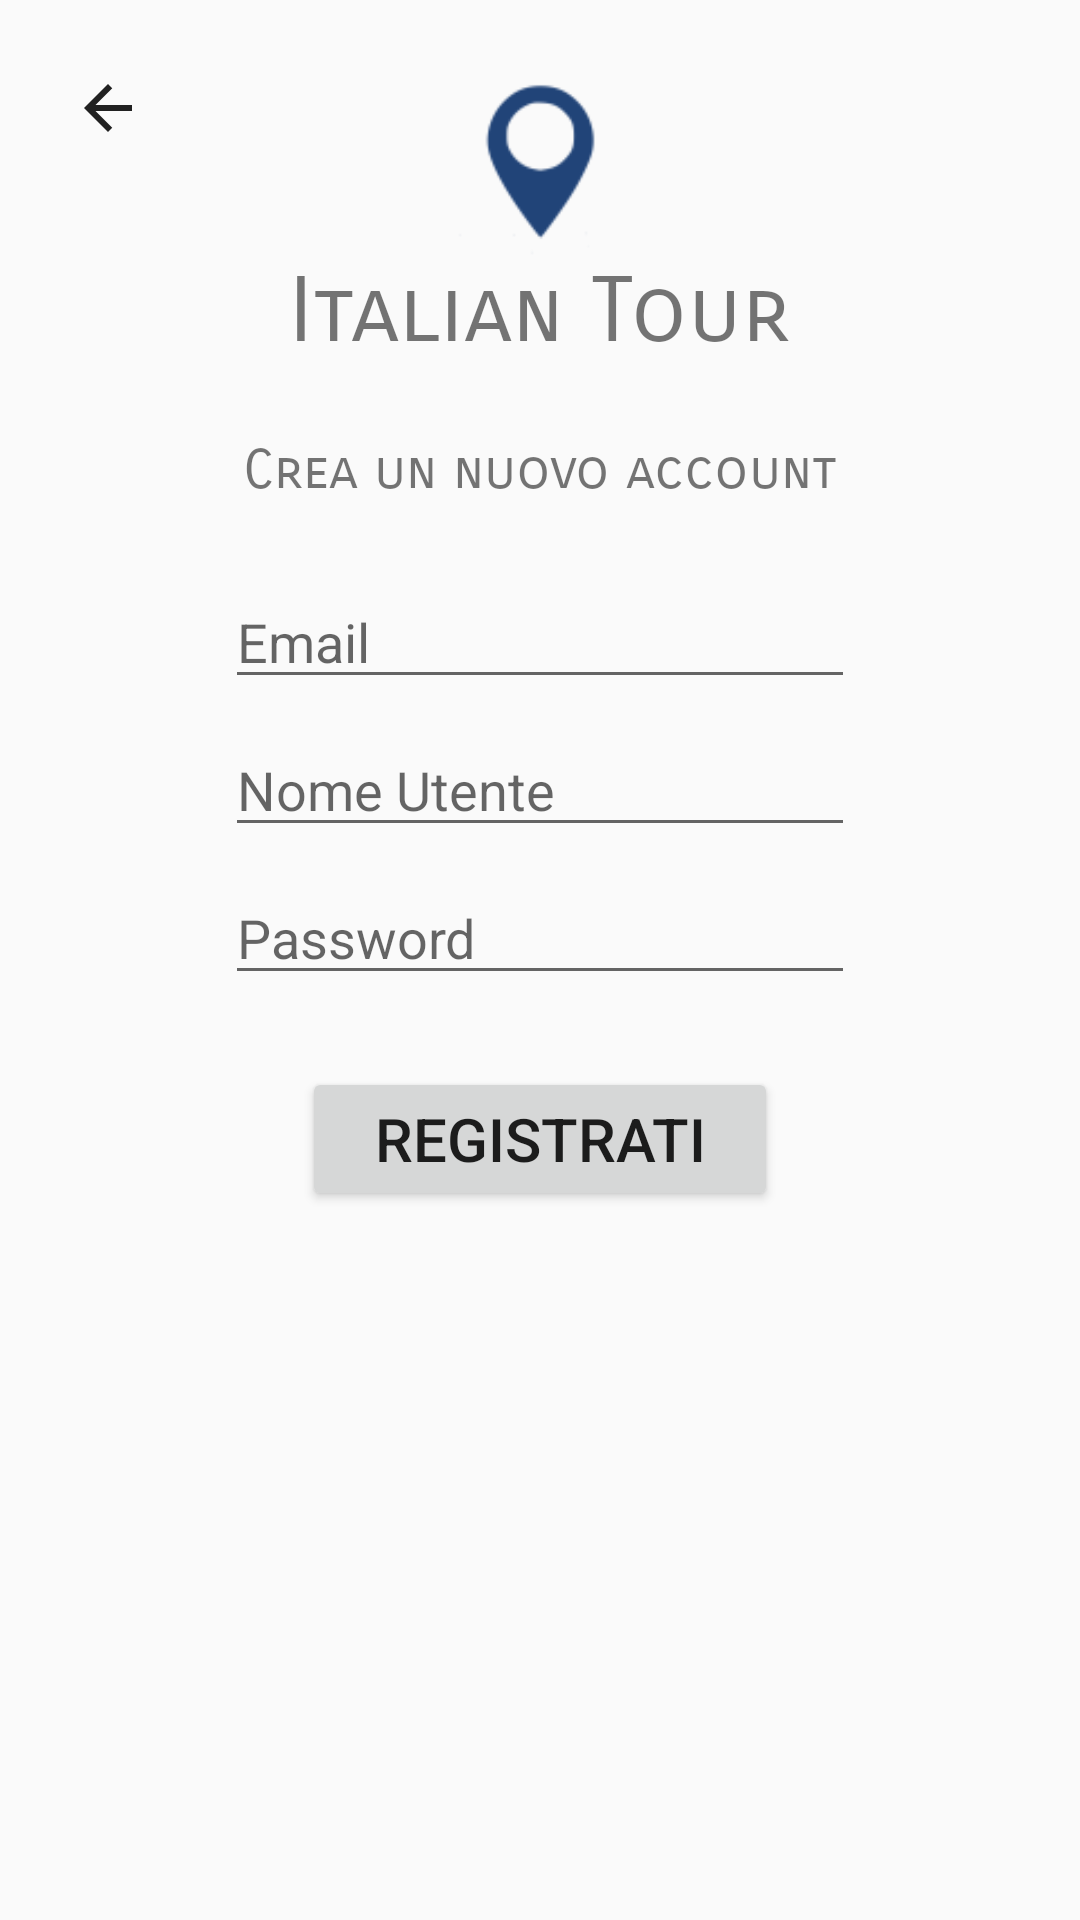

Screen size 1080x1920. Icon name, then its center in pixels as (x=x, y=y):
arrow back: (x=108, y=108)
